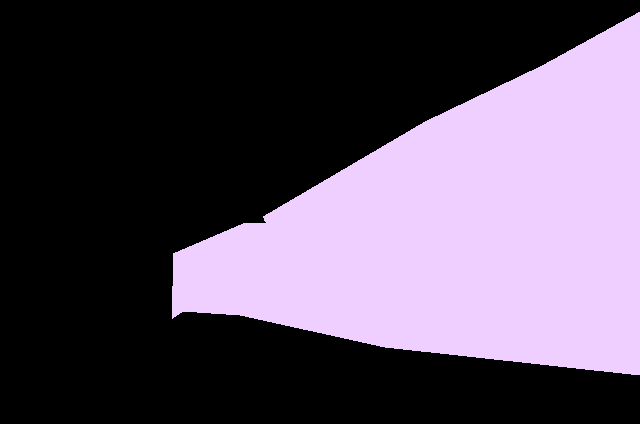Train: (172, 11, 640, 375)
